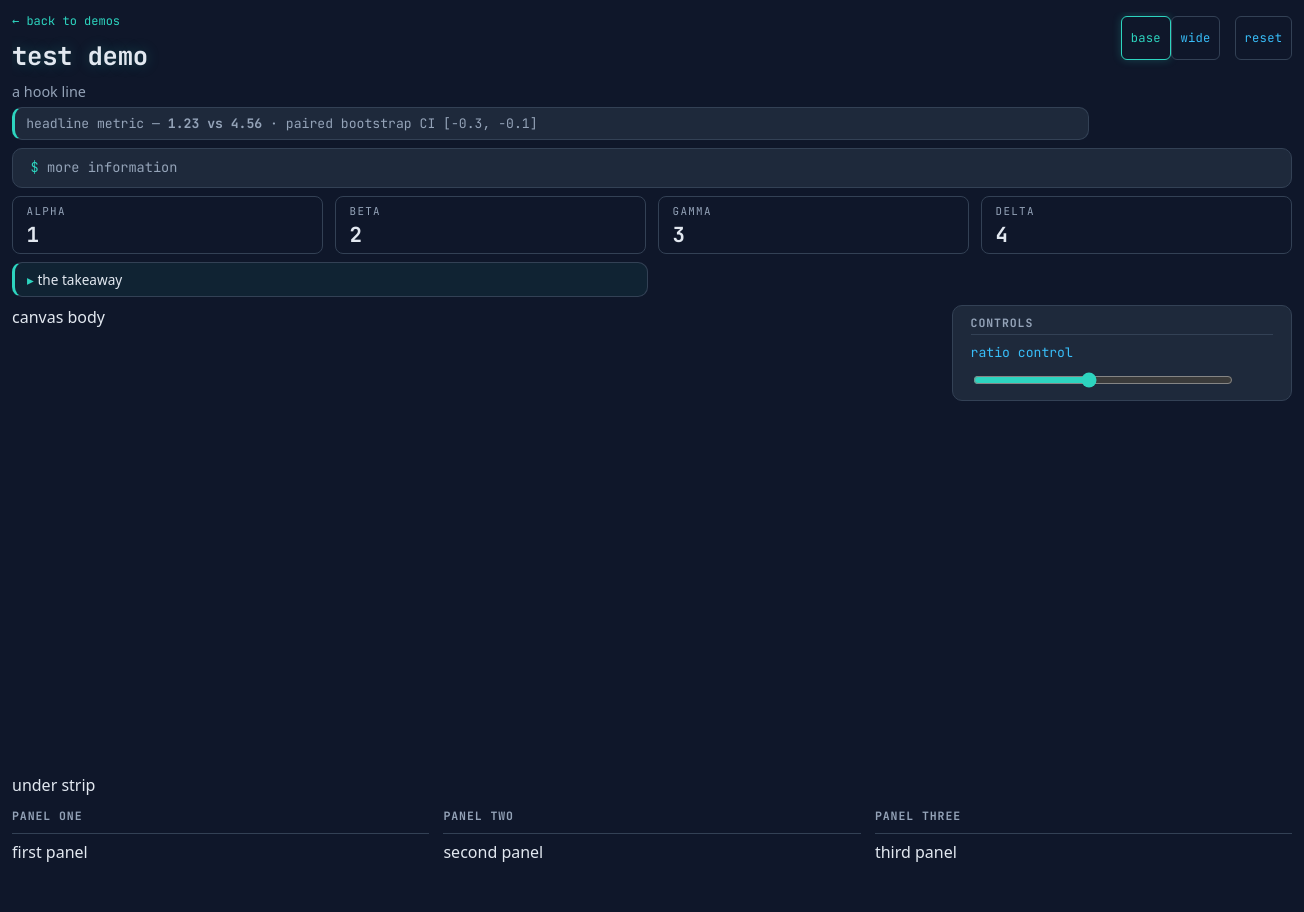
DemoWorkbench › renders manifest scenarios as chips in the header and applies them
applying a scenario pushes its controls through the shared state
What coordinates should you click on to do the following:
click the button "wide"
I would click on:
 (1196, 38)
Its box is [1171,16,1220,60].
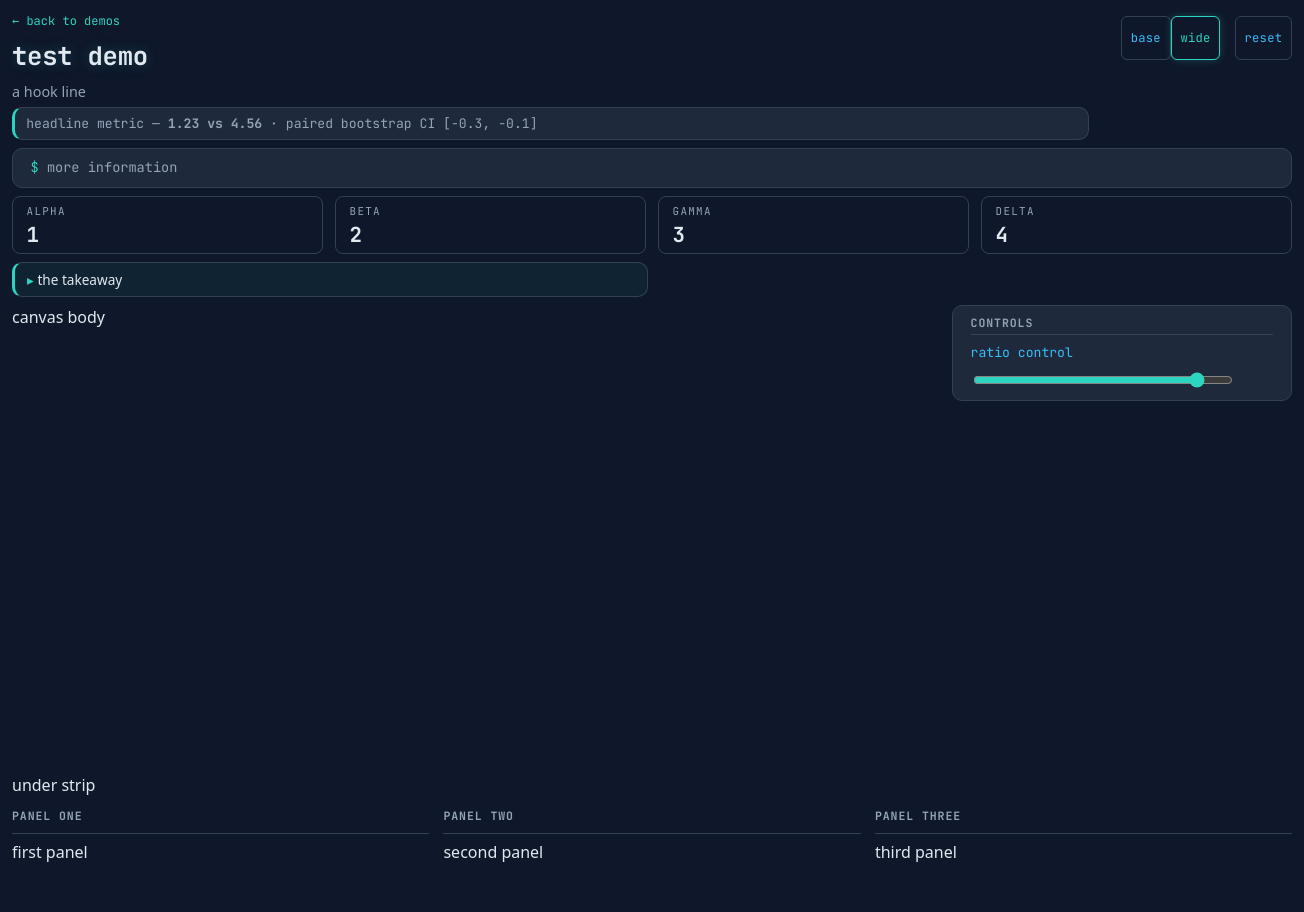
Expected: the slider labelled "ratio control" holds "9", [973,372,1233,388]
reset restores the defaults and re-activates the base scenario
What coordinates should you click on to do the following:
click the button "reset"
I would click on:
 (1263, 38)
Its box is [1235,16,1292,60].
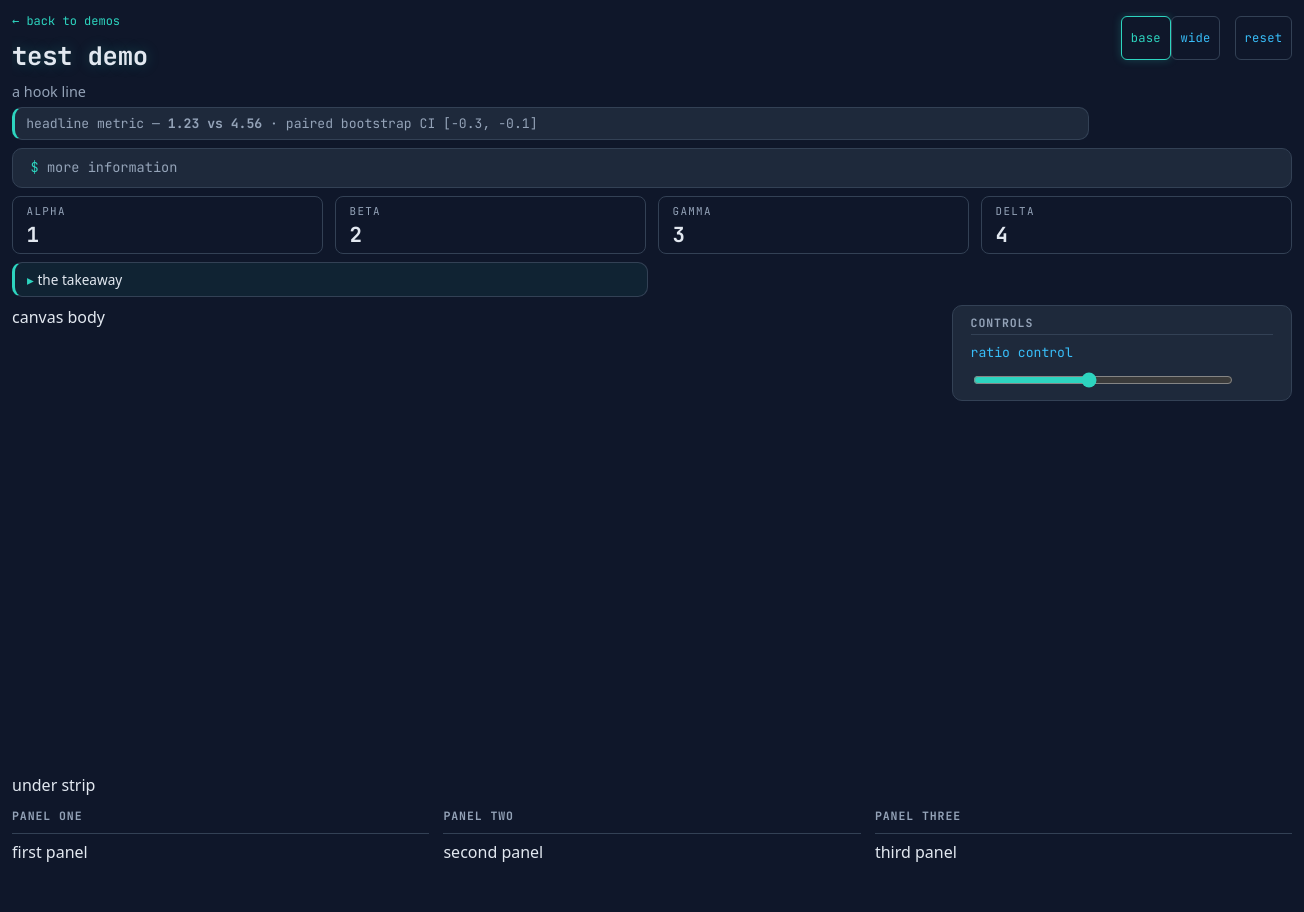
Expected: the slider labelled "ratio control" holds "5", [973,372,1233,388]
